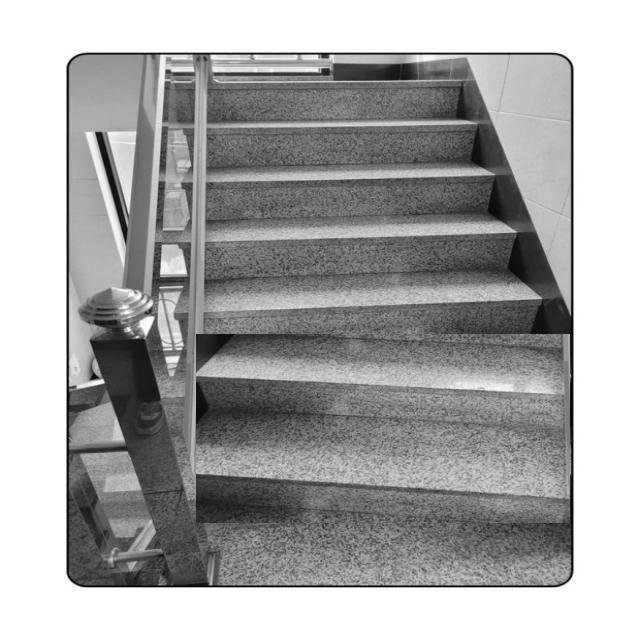stair: (195, 81, 573, 524), (196, 334, 570, 523)
